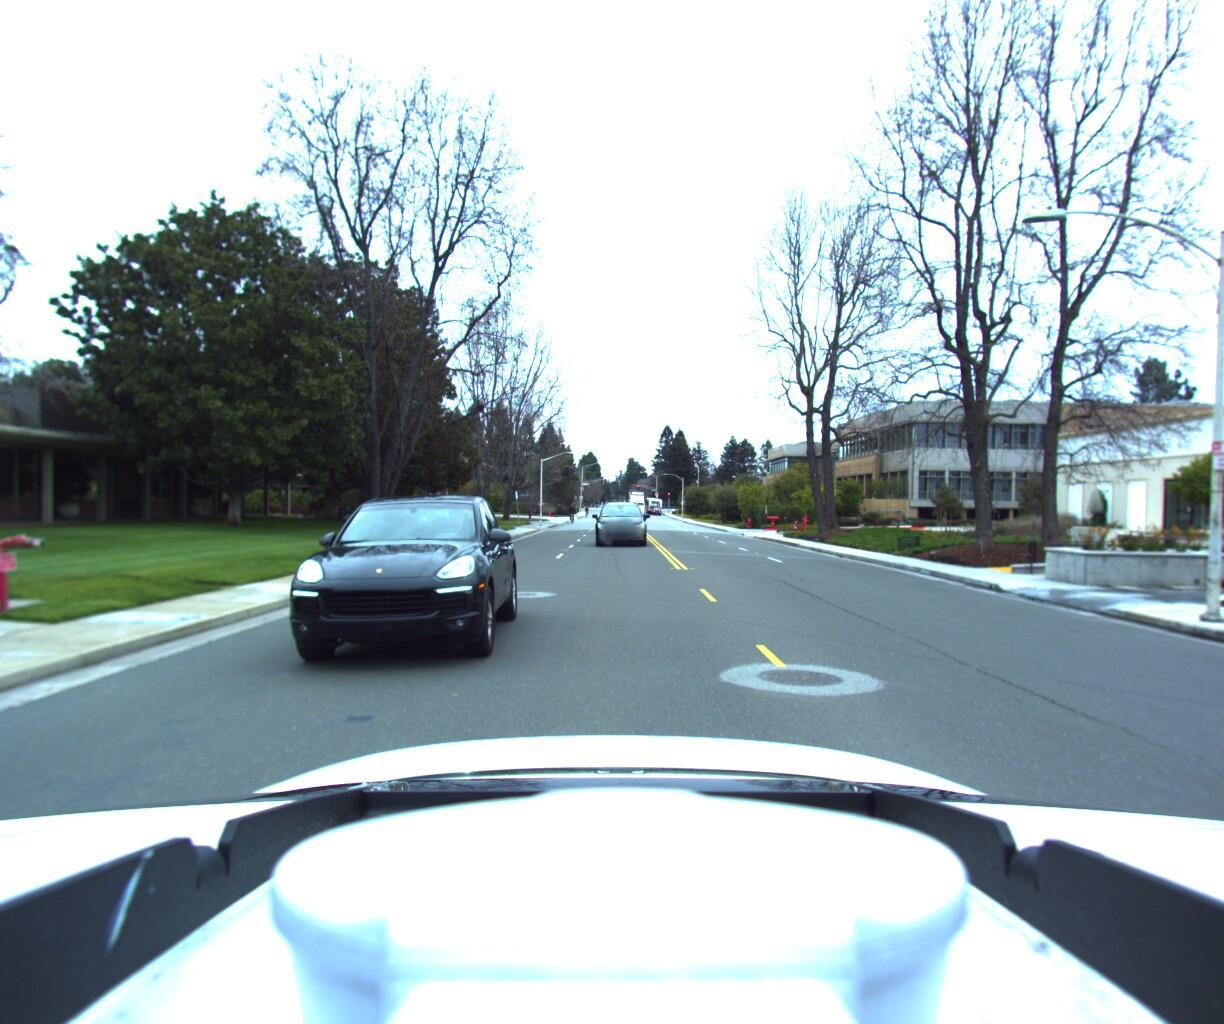car: (260, 475, 526, 681), (594, 496, 648, 547)
